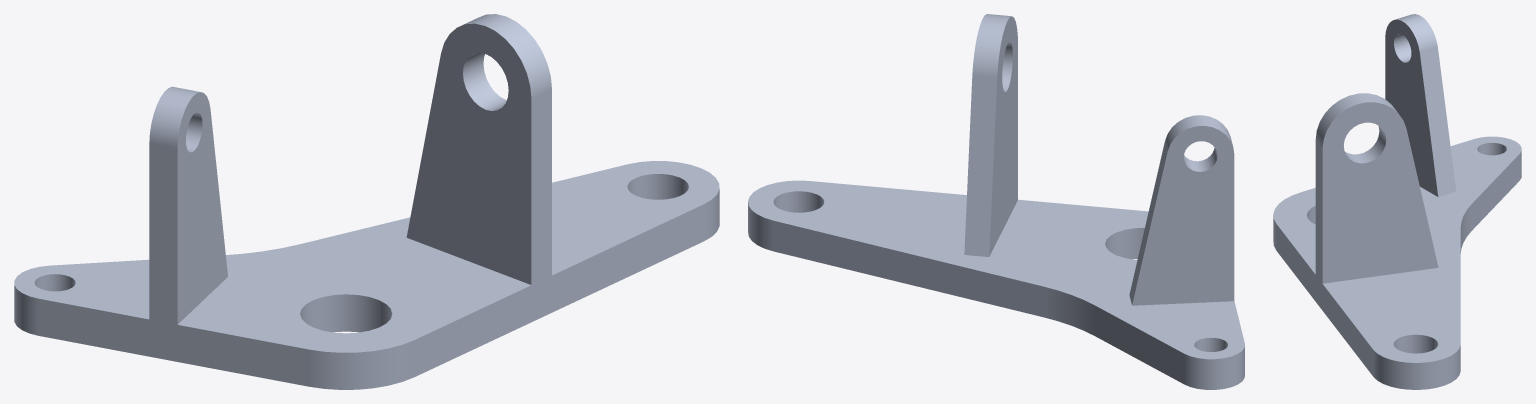
Rendered from secd_prob4.obj.
The picture shows the model from 3 angles, left to right: view 1: azimuth 30°, elevation 25°; view 2: azimuth 150°, elevation 25°; view 3: azimuth 270°, elevation 25°; orthographic projection. The views are drawn at different scales.
Visible parts, largest first — view 1: SecD_Prob4; view 2: SecD_Prob4; view 3: SecD_Prob4.
Boxes of the visible parts, bbox=[...] form: SecD_Prob4: bbox=[14, 14, 719, 389]; SecD_Prob4: bbox=[748, 14, 1244, 389]; SecD_Prob4: bbox=[1273, 14, 1521, 389].
Size of the model in its own units: 0.1439 by 0.06 by 0.0667.
